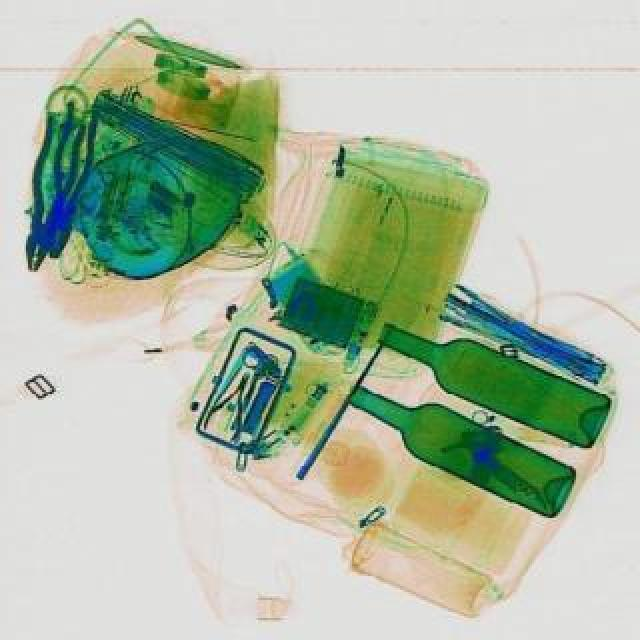pliers: (220, 344, 278, 414)
wrench: (8, 114, 90, 270), (32, 98, 106, 260), (196, 366, 264, 442)
